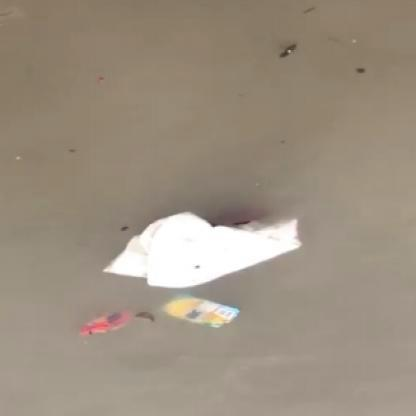Trash: (93, 209, 306, 294), (160, 293, 242, 335), (76, 309, 156, 341)
